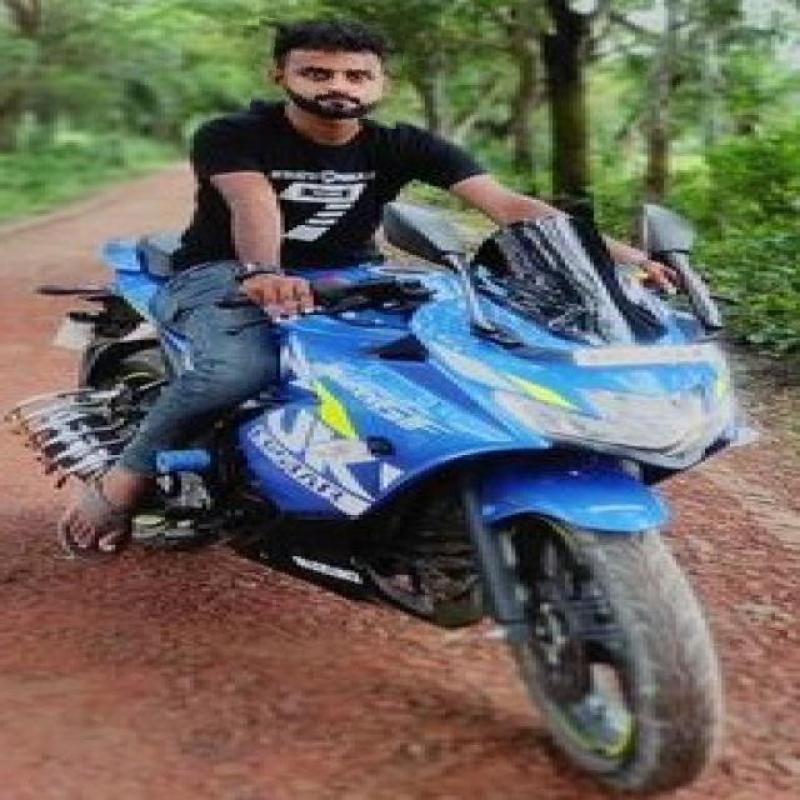nohelmet: (251, 20, 404, 125)
